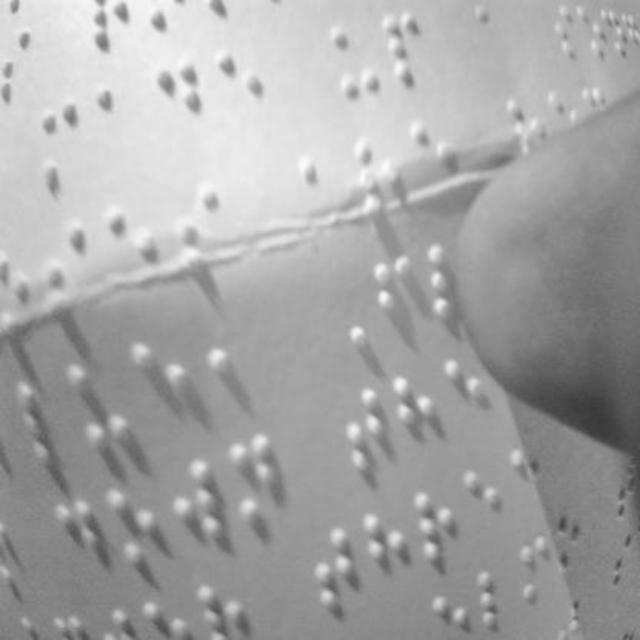braiile: (172, 455, 232, 561), (65, 355, 131, 451), (130, 340, 188, 444), (308, 520, 364, 624), (50, 498, 106, 598), (230, 432, 282, 538), (110, 483, 166, 581), (152, 59, 205, 162), (362, 508, 414, 608), (214, 48, 266, 148), (336, 384, 392, 476), (330, 15, 386, 101), (391, 374, 441, 470), (96, 82, 144, 180), (207, 318, 259, 407), (413, 488, 465, 576), (41, 100, 88, 196), (372, 254, 418, 350)
